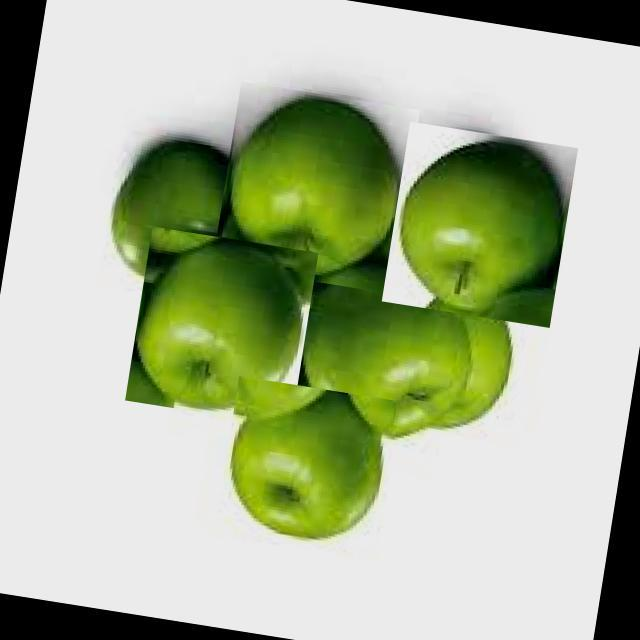Green Apple: (113, 95, 564, 540), (303, 290, 513, 439), (136, 238, 316, 411), (229, 97, 399, 276), (230, 391, 384, 540), (111, 138, 231, 276), (302, 279, 385, 393), (486, 287, 556, 328), (316, 262, 387, 298)
Red Apple: (400, 139, 564, 315)
